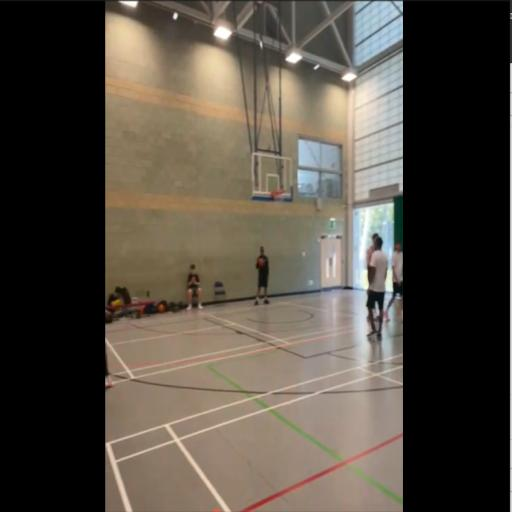hoops: (273, 186, 289, 216)
